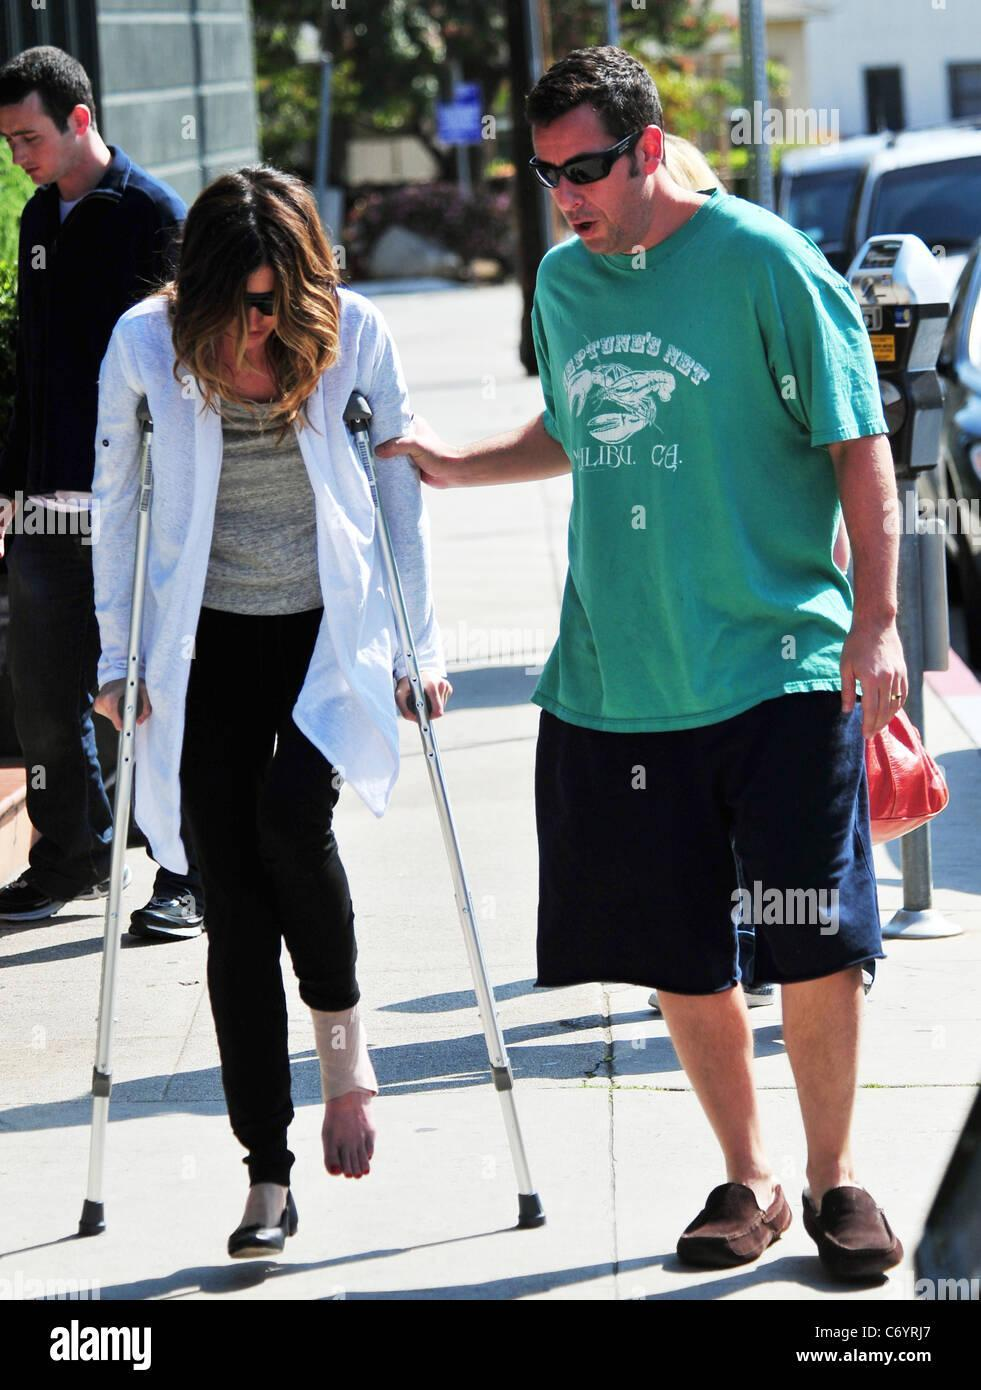crutches: (74, 168, 548, 1260)
